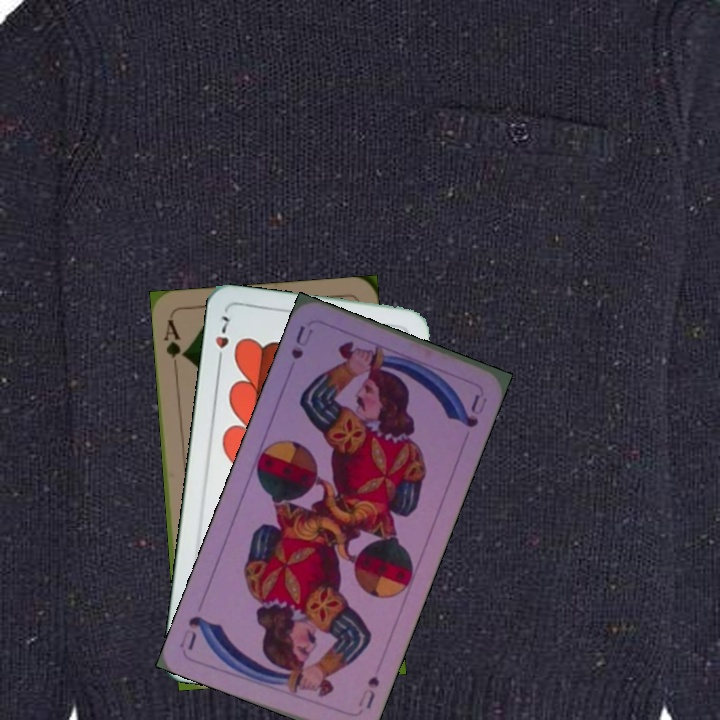GA: (160, 315, 188, 374)
H7: (211, 310, 233, 368)
SU: (287, 321, 316, 362), (354, 671, 382, 712)
